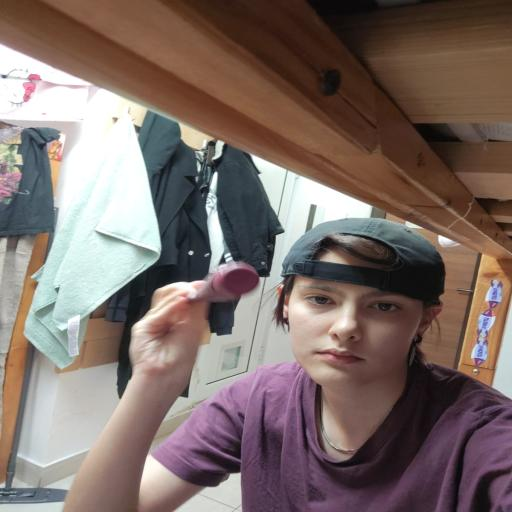Crema Maini: (184, 260, 258, 306)
